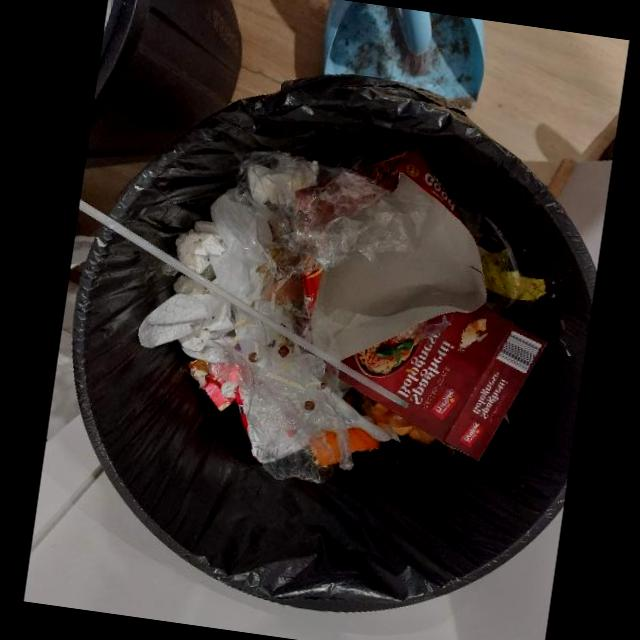carton: (299, 148, 487, 362), (338, 305, 549, 461)
giay: (136, 289, 236, 360), (175, 229, 226, 273)
ong_hut_nhua: (79, 199, 414, 411)
tui_ni_long: (235, 150, 431, 277), (203, 348, 353, 483), (196, 189, 275, 304)
